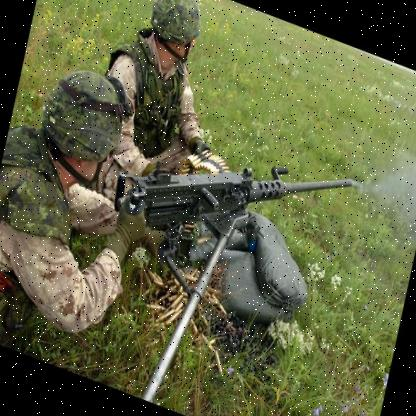rifle: (112, 96, 366, 306)
